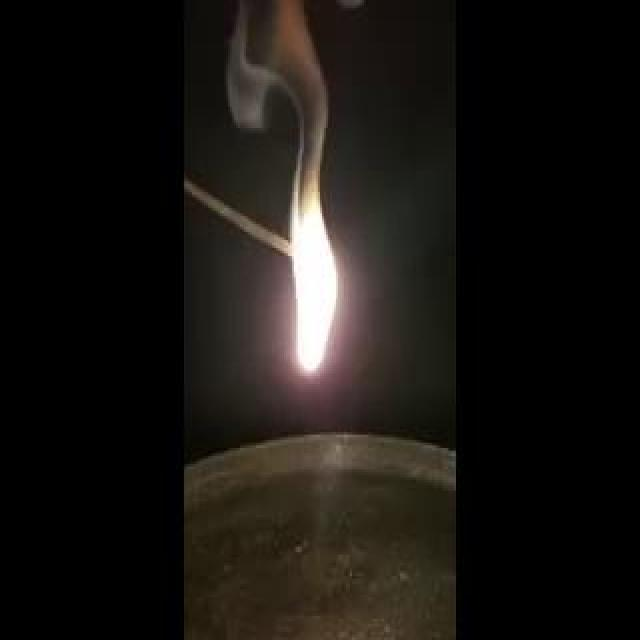Fire: (82, 256, 303, 274)
